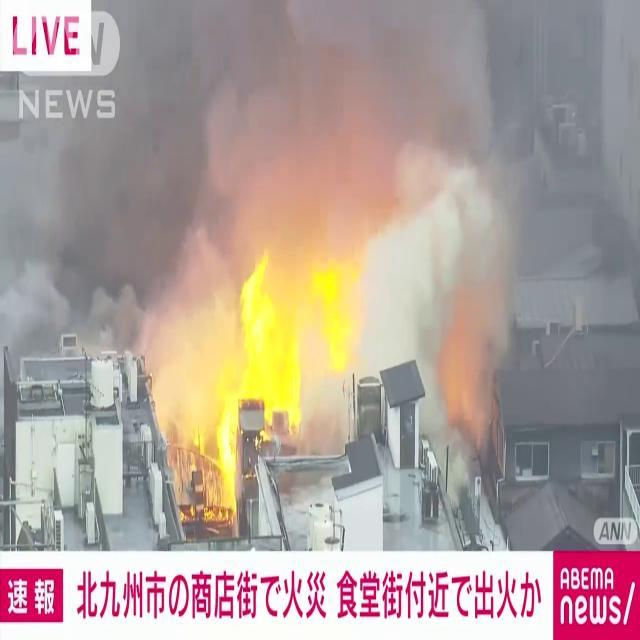Fire: (143, 242, 379, 528)
Smoke: (79, 0, 576, 367)
